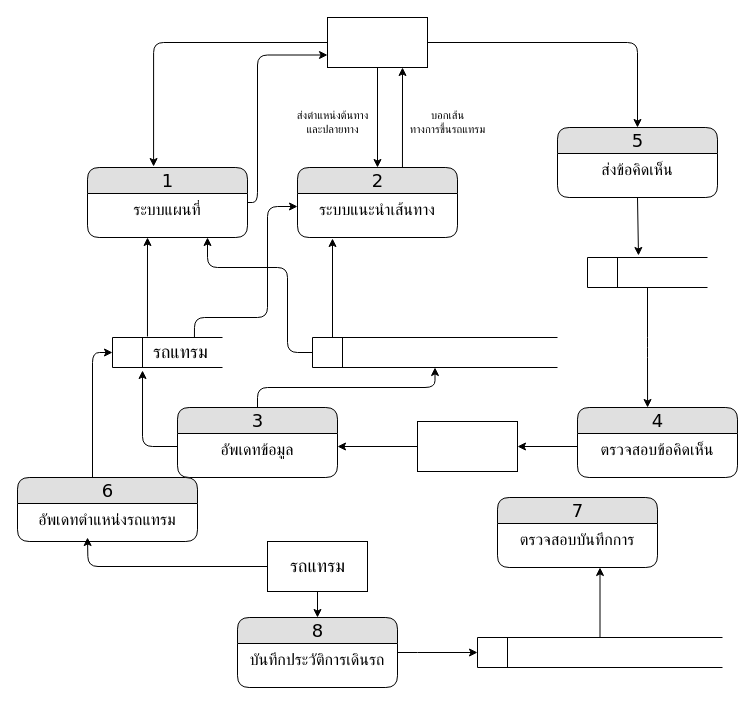
Image size: 755x705. Some labels were removed from this diagram. Each missing label, with the centre of its shape:
"Admin" belongs at (x=467, y=446).
"Client" belongs at (x=377, y=42).
"ข้อคิดเห็น" belongs at (x=647, y=272).
"บันทึกการเดินรถแทรม" belongs at (x=599, y=652).
"เส้นทางการเดินรถแทรม" belongs at (x=435, y=352).
